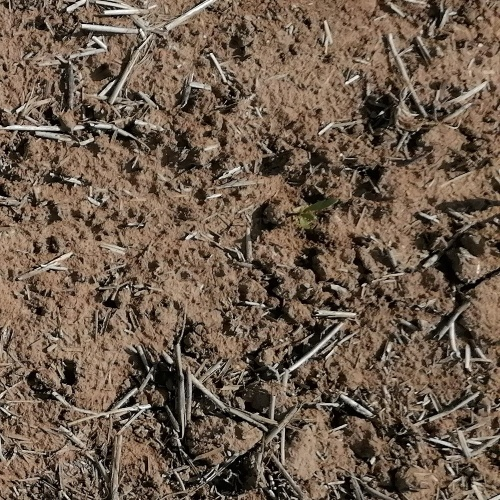beet: (295, 194, 341, 228)
